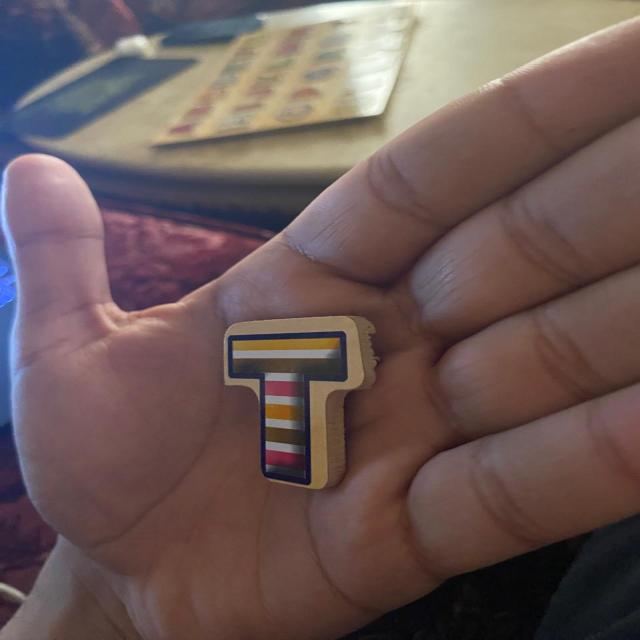T: (223, 316, 375, 489)
